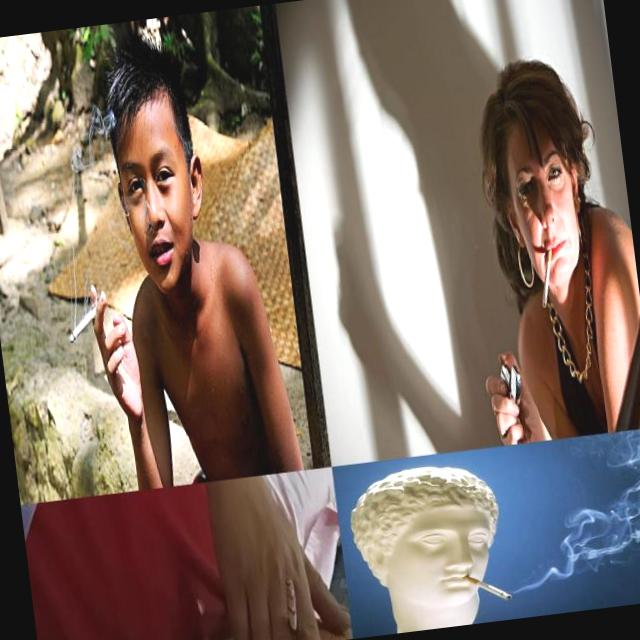cigarette: (459, 566, 513, 610), (64, 297, 109, 343), (535, 246, 559, 310), (282, 575, 301, 640)
